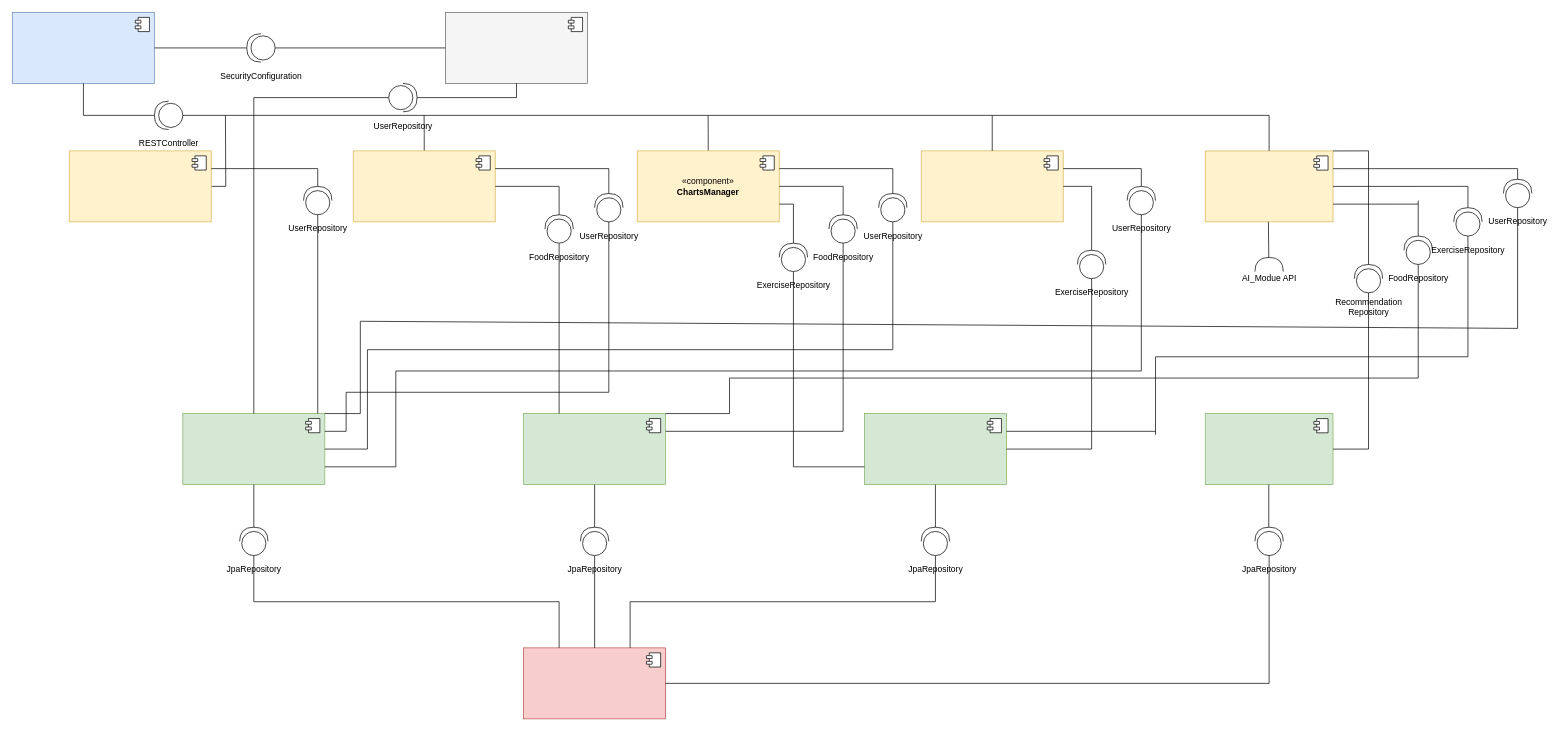
The diagram is 1559 pixels wide and 731 high, and some of its shapes have lost their labels. Here are the shapes that lost their labels. From the top down, the centre of each, then its label:
At [83,47]: "«component» User Interface".
At [516,47]: "«component» Authorization".
At [140,186]: "«component» UserManager".
At [424,186]: "«component» FoodManager".
At [992,186]: "«component» ExerciseManager".
At [1269,186]: "«component» AIRecommendationsManager".
At [253,449]: "«component» User DataProvider".
At [594,449]: "«component» FoodDataProvider".
At [935,449]: "«component» ExerciseDataProvider".
At [1269,449]: "«component» RecommendationDataProvider".
At [594,683]: "«component» Database".
